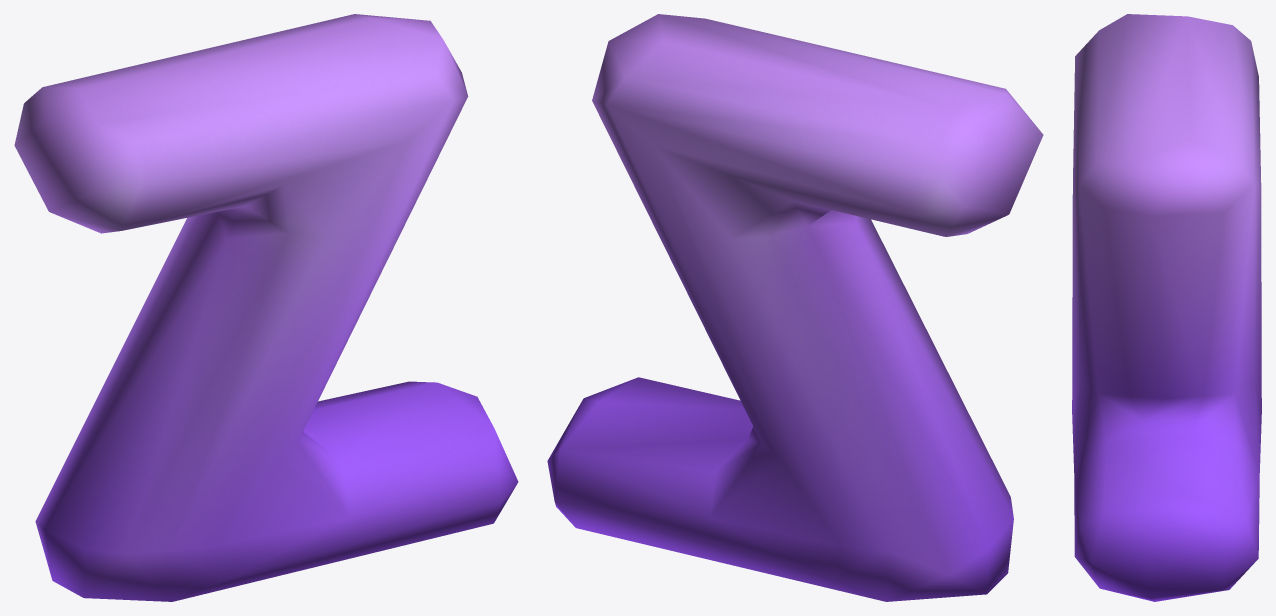
3 views of the same model, side by side, from view 1: azimuth 30°, elevation 25°; view 2: azimuth 150°, elevation 25°; view 3: azimuth 270°, elevation 25° (orthographic). The views are drawn at different scales.
Parts seen in each view (by area): view 1: Processed_Mesh0_Geometry; view 2: Processed_Mesh0_Geometry; view 3: Processed_Mesh0_Geometry.
Boxes of the visible parts, x1=… form: Processed_Mesh0_Geometry: x1=14, y1=14, x2=518, y2=601; Processed_Mesh0_Geometry: x1=547, y1=14, x2=1043, y2=601; Processed_Mesh0_Geometry: x1=1072, y1=14, x2=1261, y2=601.
Size of what is drawn, in the model's own units: 0.0503 by 0.0553 by 0.0219.
1 material, 1 textured.
